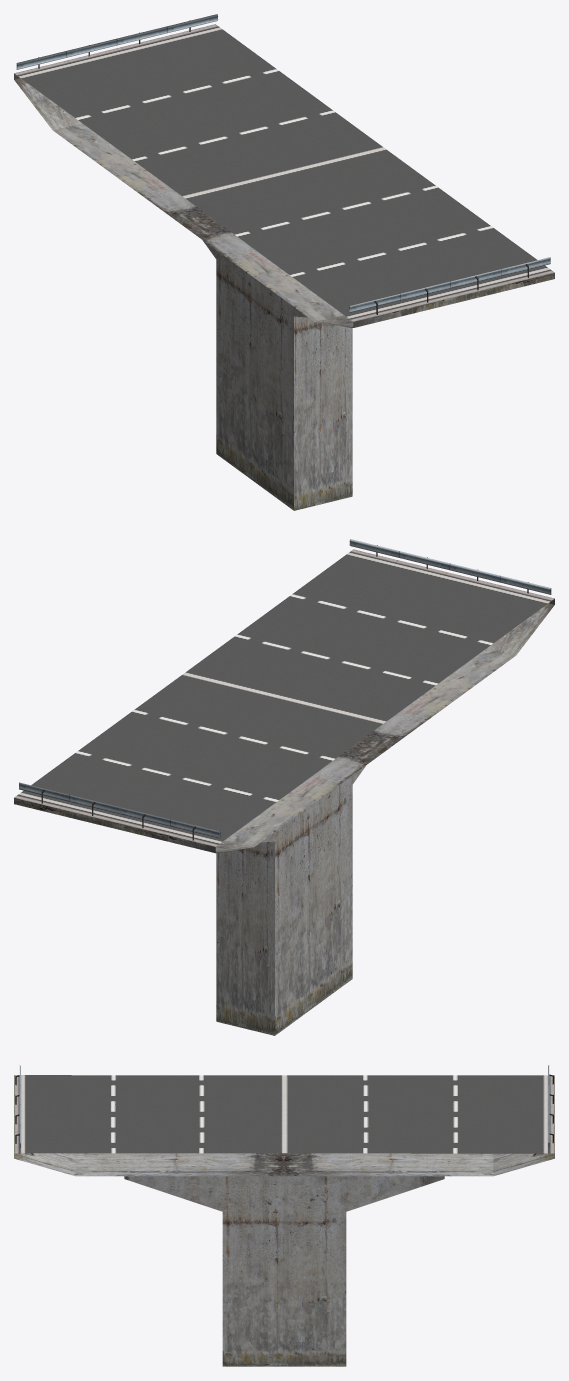
Rendered from 6 line highway with legs_mobile.FBX.
3 views of the same model, one above another, from view 1: azimuth 30°, elevation 25°; view 2: azimuth 150°, elevation 25°; view 3: azimuth 270°, elevation 25° (orthographic). The views are drawn at different scales.
Visible parts, largest first — view 1: Object001; view 2: Object001; view 3: Object001.
Part boxes in pixels (box(x1,y1,x2,y2)): Object001: box(14, 14, 554, 510); Object001: box(14, 539, 554, 1035); Object001: box(14, 1065, 554, 1366).
Bounding box in the file's own units: 12.08 × 17.99 × 35.09.
